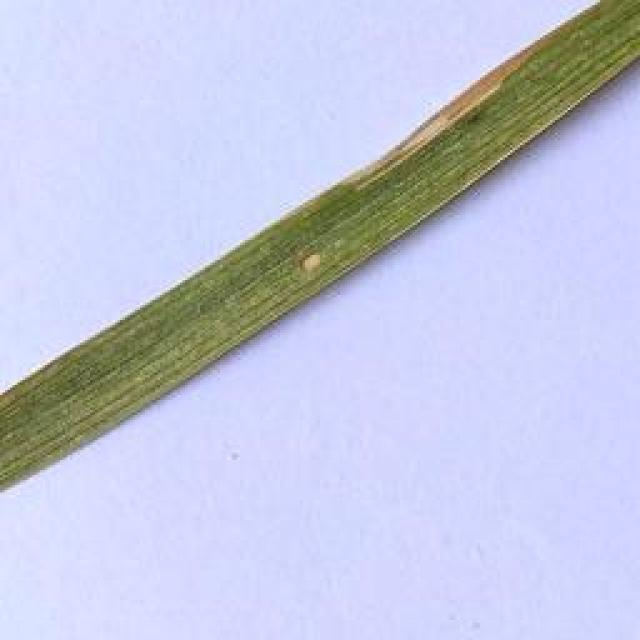Unhealthy: (345, 4, 603, 186), (299, 251, 322, 278)
